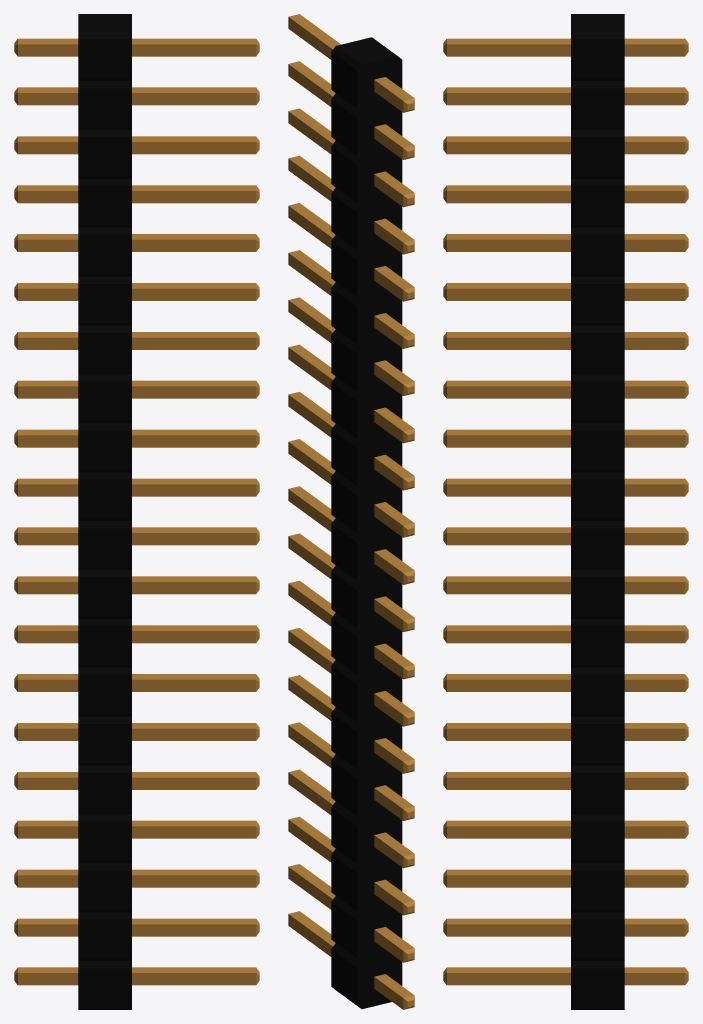
Rendered from pinheader_1x20_p2.54mm_vertical.glb.
The picture shows the model from 3 angles, left to right: view 1: azimuth 90°, elevation 25°; view 2: azimuth 210°, elevation 25°; view 3: azimuth 270°, elevation 25°; orthographic projection. The views are drawn at different scales.
Visible parts, largest first — view 1: PinHeader_1x20_P2.54mm_Vertical; view 2: PinHeader_1x20_P2.54mm_Vertical; view 3: PinHeader_1x20_P2.54mm_Vertical.
Boxes of the visible parts, x1,y1,x2,y2 form: PinHeader_1x20_P2.54mm_Vertical: [14, 14, 259, 1009]; PinHeader_1x20_P2.54mm_Vertical: [288, 14, 414, 1009]; PinHeader_1x20_P2.54mm_Vertical: [443, 14, 688, 1009].
Bounding box in the file's own units: 2.54 × 50.8 × 11.54.
